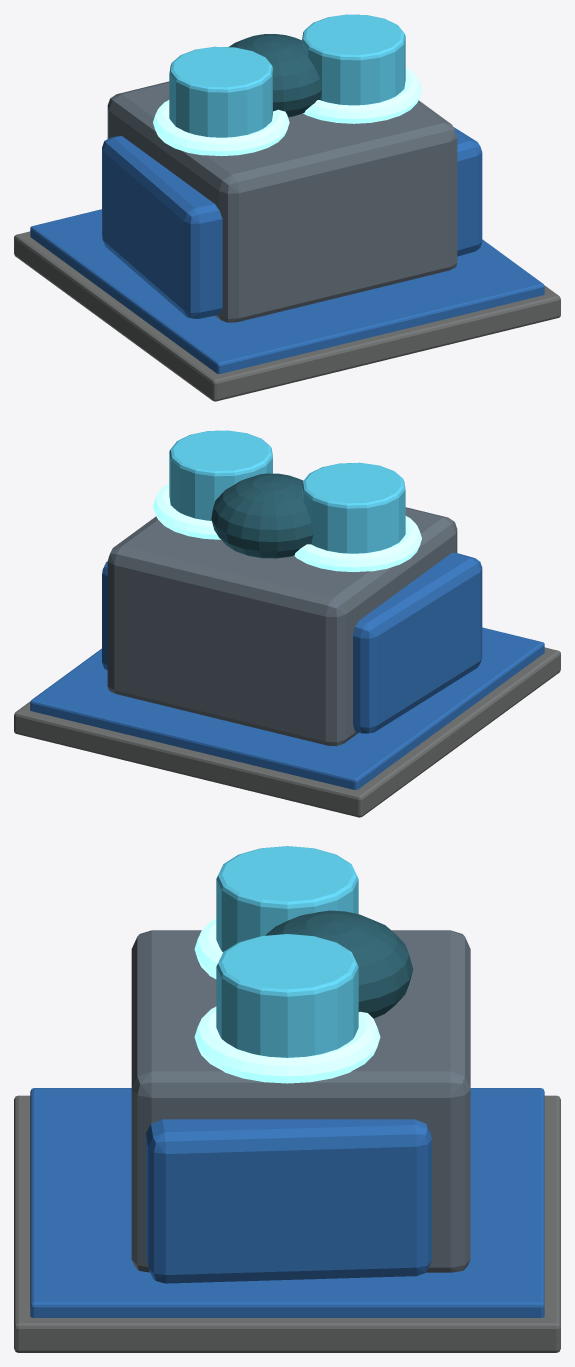
The model's file is SM_Alliance_AL_PowerPlant.fbx.
3 renders of one model, top to bottom at view 1: azimuth 30°, elevation 25°; view 2: azimuth 150°, elevation 25°; view 3: azimuth 270°, elevation 25°, orthographic. The views are drawn at different scales.
Visible parts, largest first — view 1: SM_Alliance_AL_PowerPlant_MainMass, SM_Alliance_AL_PowerPlant_FoundationTrim, SM_Alliance_AL_PowerPlant, SM_Alliance_AL_PowerPlant_Module_-1, SM_Alliance_AL_PowerPlant_Reactor_-1, SM_Alliance_AL_PowerPlant_Reactor_+1, SM_Alliance_AL_PowerPlant_SensorDome, SM_Alliance_AL_PowerPlant_ReactorRing_-1, SM_Alliance_AL_PowerPlant_Module_+1, SM_Alliance_AL_PowerPlant_ReactorRing_+1; view 2: SM_Alliance_AL_PowerPlant_MainMass, SM_Alliance_AL_PowerPlant_FoundationTrim, SM_Alliance_AL_PowerPlant_Module_-1, SM_Alliance_AL_PowerPlant, SM_Alliance_AL_PowerPlant_Reactor_-1, SM_Alliance_AL_PowerPlant_SensorDome, SM_Alliance_AL_PowerPlant_Reactor_+1, SM_Alliance_AL_PowerPlant_ReactorRing_-1, SM_Alliance_AL_PowerPlant_ReactorRing_+1, SM_Alliance_AL_PowerPlant_Module_+1; view 3: SM_Alliance_AL_PowerPlant_FoundationTrim, SM_Alliance_AL_PowerPlant_Module_+1, SM_Alliance_AL_PowerPlant_MainMass, SM_Alliance_AL_PowerPlant, SM_Alliance_AL_PowerPlant_Reactor_+1, SM_Alliance_AL_PowerPlant_Reactor_-1, SM_Alliance_AL_PowerPlant_SensorDome, SM_Alliance_AL_PowerPlant_ReactorRing_+1, SM_Alliance_AL_PowerPlant_ReactorRing_-1.
Boxes of the visible parts, x1,y1,x2,y2 form: SM_Alliance_AL_PowerPlant_MainMass: [107, 81, 457, 322]; SM_Alliance_AL_PowerPlant_FoundationTrim: [30, 209, 544, 373]; SM_Alliance_AL_PowerPlant: [14, 231, 560, 401]; SM_Alliance_AL_PowerPlant_Module_-1: [102, 136, 222, 318]; SM_Alliance_AL_PowerPlant_Reactor_-1: [169, 46, 272, 137]; SM_Alliance_AL_PowerPlant_Reactor_+1: [302, 14, 405, 105]; SM_Alliance_AL_PowerPlant_SensorDome: [228, 34, 321, 117]; SM_Alliance_AL_PowerPlant_ReactorRing_-1: [153, 100, 289, 156]; SM_Alliance_AL_PowerPlant_Module_+1: [453, 127, 482, 256]; SM_Alliance_AL_PowerPlant_ReactorRing_+1: [303, 67, 421, 123]; SM_Alliance_AL_PowerPlant_MainMass: [107, 507, 457, 746]; SM_Alliance_AL_PowerPlant_FoundationTrim: [30, 627, 544, 789]; SM_Alliance_AL_PowerPlant_Module_-1: [353, 552, 482, 733]; SM_Alliance_AL_PowerPlant: [14, 647, 560, 817]; SM_Alliance_AL_PowerPlant_Reactor_-1: [302, 462, 405, 553]; SM_Alliance_AL_PowerPlant_SensorDome: [211, 473, 312, 558]; SM_Alliance_AL_PowerPlant_Reactor_+1: [169, 430, 272, 520]; SM_Alliance_AL_PowerPlant_ReactorRing_-1: [294, 516, 421, 572]; SM_Alliance_AL_PowerPlant_ReactorRing_+1: [153, 483, 220, 539]; SM_Alliance_AL_PowerPlant_Module_+1: [102, 561, 107, 670]; SM_Alliance_AL_PowerPlant_FoundationTrim: [30, 1088, 544, 1317]; SM_Alliance_AL_PowerPlant_Module_+1: [146, 1119, 431, 1283]; SM_Alliance_AL_PowerPlant_MainMass: [131, 930, 470, 1272]; SM_Alliance_AL_PowerPlant: [14, 1095, 560, 1352]; SM_Alliance_AL_PowerPlant_Reactor_+1: [216, 934, 358, 1057]; SM_Alliance_AL_PowerPlant_Reactor_-1: [216, 846, 358, 951]; SM_Alliance_AL_PowerPlant_SensorDome: [266, 910, 413, 1018]; SM_Alliance_AL_PowerPlant_ReactorRing_+1: [194, 1006, 380, 1083]; SM_Alliance_AL_PowerPlant_ReactorRing_-1: [194, 919, 222, 978].
Size of what is drawn, in the model's own units: 600 by 600 by 389.
